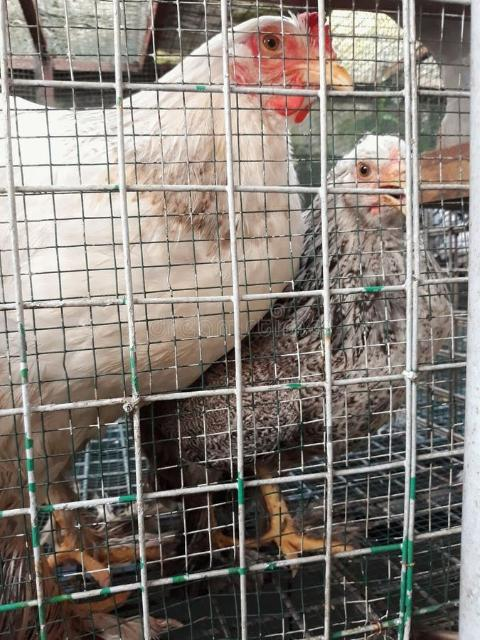Chicken: (4, 15, 356, 580), (145, 134, 445, 570)
